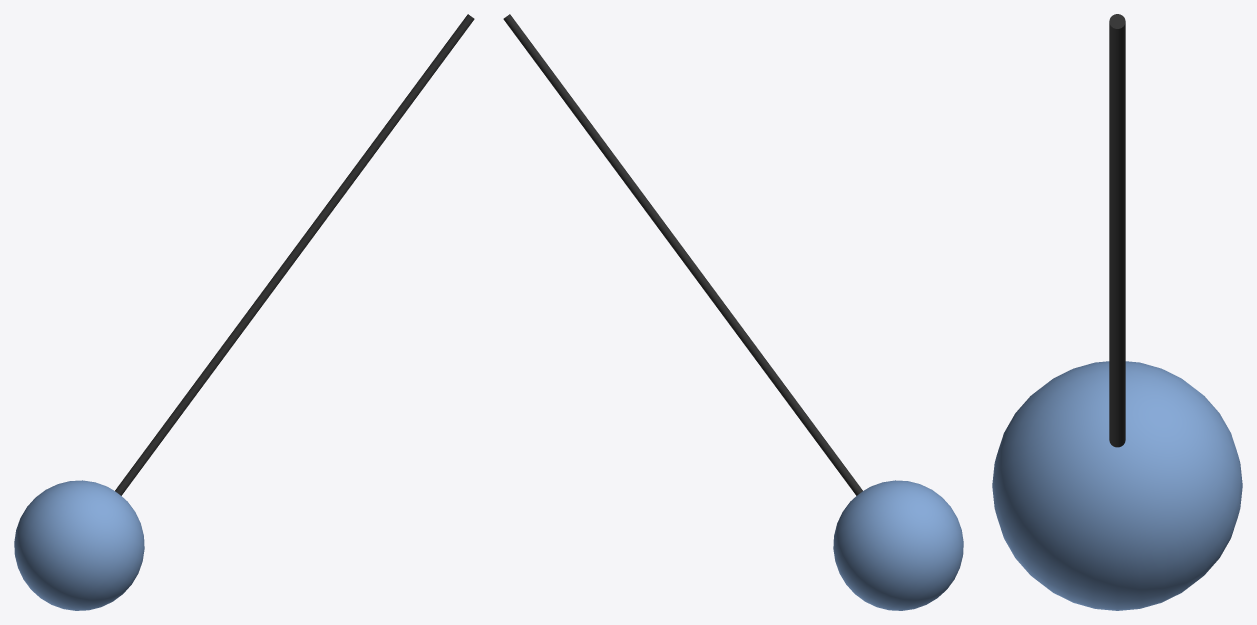
File: Pendulum.fbx
3 renders of one model, left to right at view 1: azimuth 30°, elevation 25°; view 2: azimuth 150°, elevation 25°; view 3: azimuth 270°, elevation 25°, orthographic. The views are drawn at different scales.
Visible parts, largest first — view 1: Kula, Walec; view 2: Kula, Walec; view 3: Kula, Walec.
Boxes of the visible parts, x1,y1,x2,y2 form: Kula: (14, 480, 144, 610); Walec: (115, 14, 474, 495); Kula: (833, 480, 963, 610); Walec: (503, 14, 862, 495); Kula: (992, 361, 1242, 610); Walec: (1109, 14, 1125, 447).
Bounding box in the file's own units: 637 × 668 × 160.
